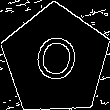O_S: (29, 29, 83, 91)
